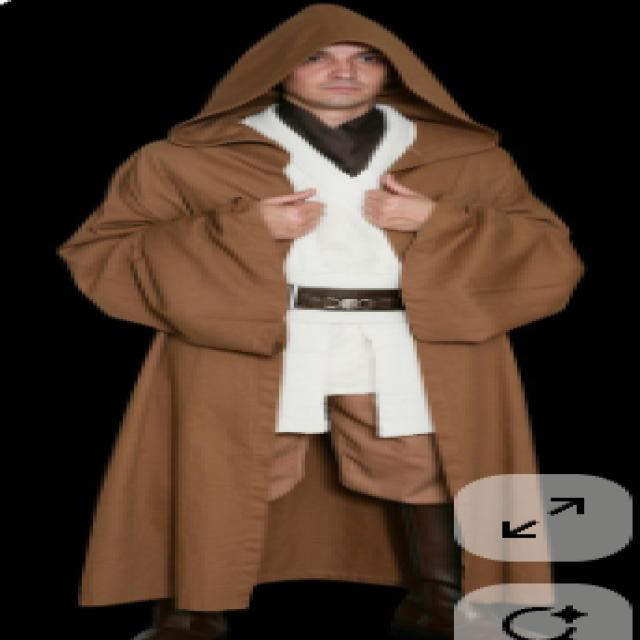4_capucha: (164, 4, 501, 150)
